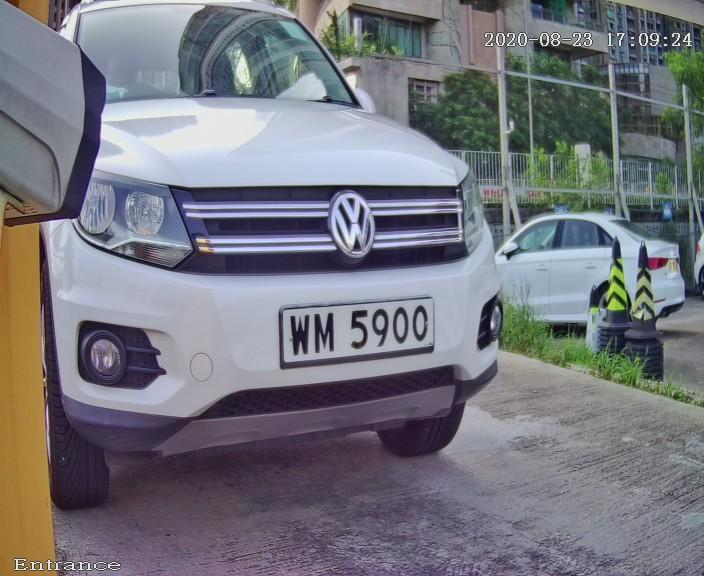Car: (1, 8, 579, 502)
License Plate: (241, 263, 481, 397)
